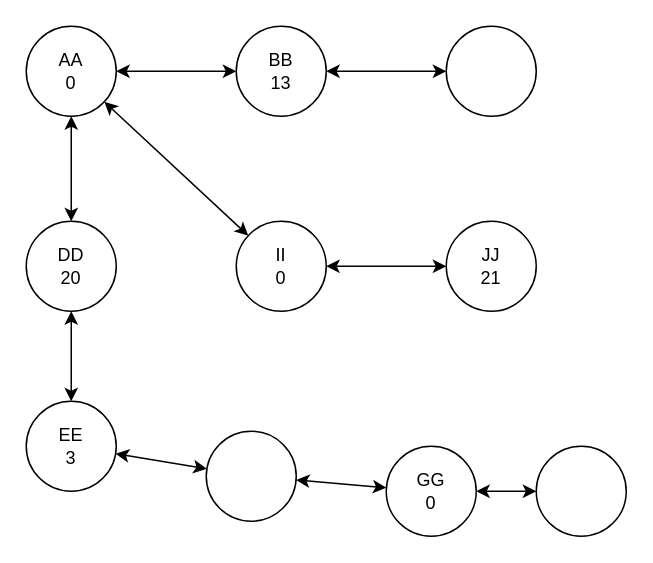
This 653x563 diagram has some shape labels left out. The centre of each missing label's shape, as x and y in pixels:
CC 2: point 490,70
FF 0: point 250,475
HH 23: point 580,490
